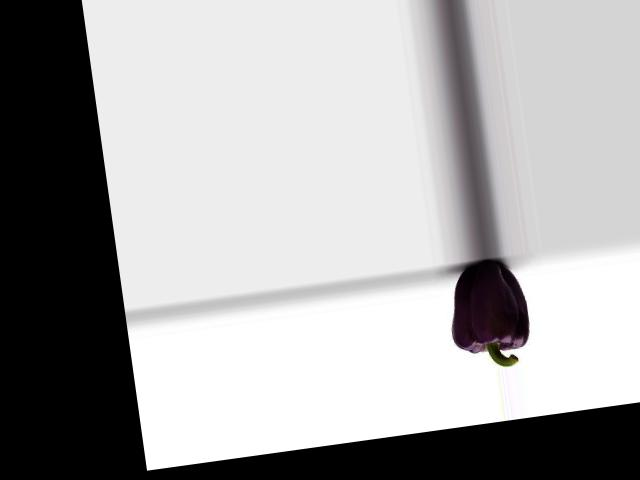bell_pepper: (437, 256, 543, 372)
